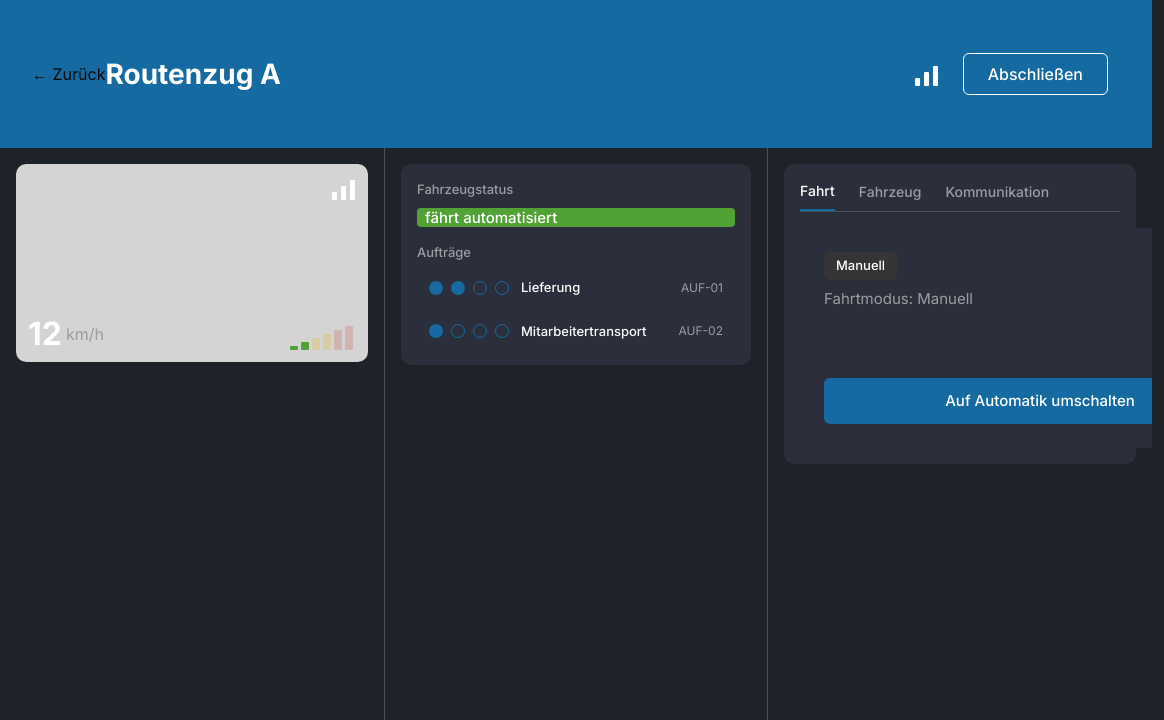
Scenario: SC-05 — RoutenzugDetailPage — AktionenPanel Tab-Wechsel › Tab "Fahrzeug" zeigt Nothalt-Button
This screenshot has width=1164, height=720.
Click the button "Fahrzeug": [890, 196] box [859, 180, 921, 211]
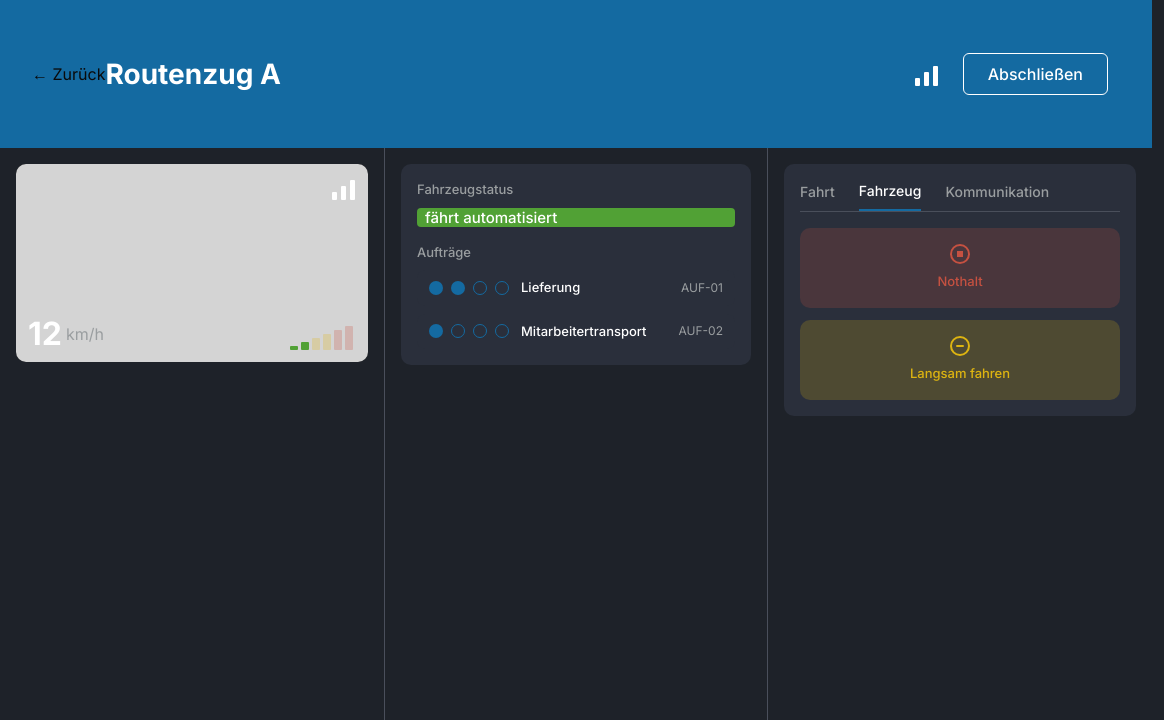
Expected: the button "Nothalt" is shown, [800, 228, 1120, 308]
